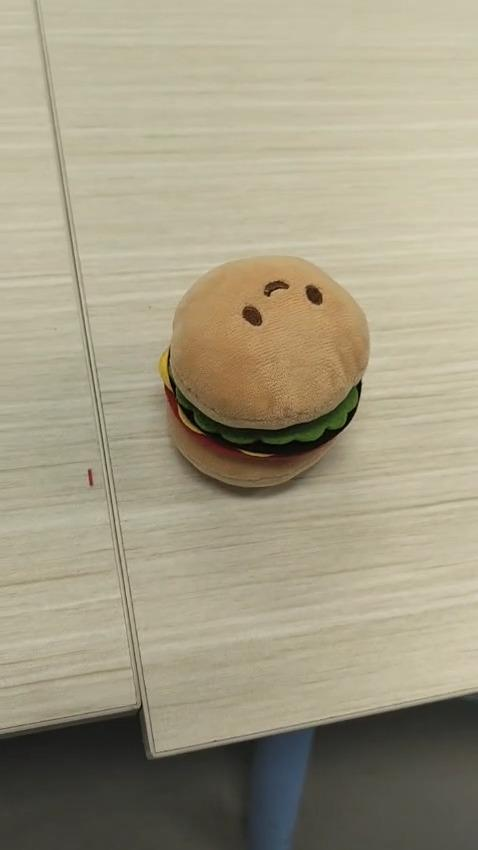hamburger: (157, 253, 370, 489)
